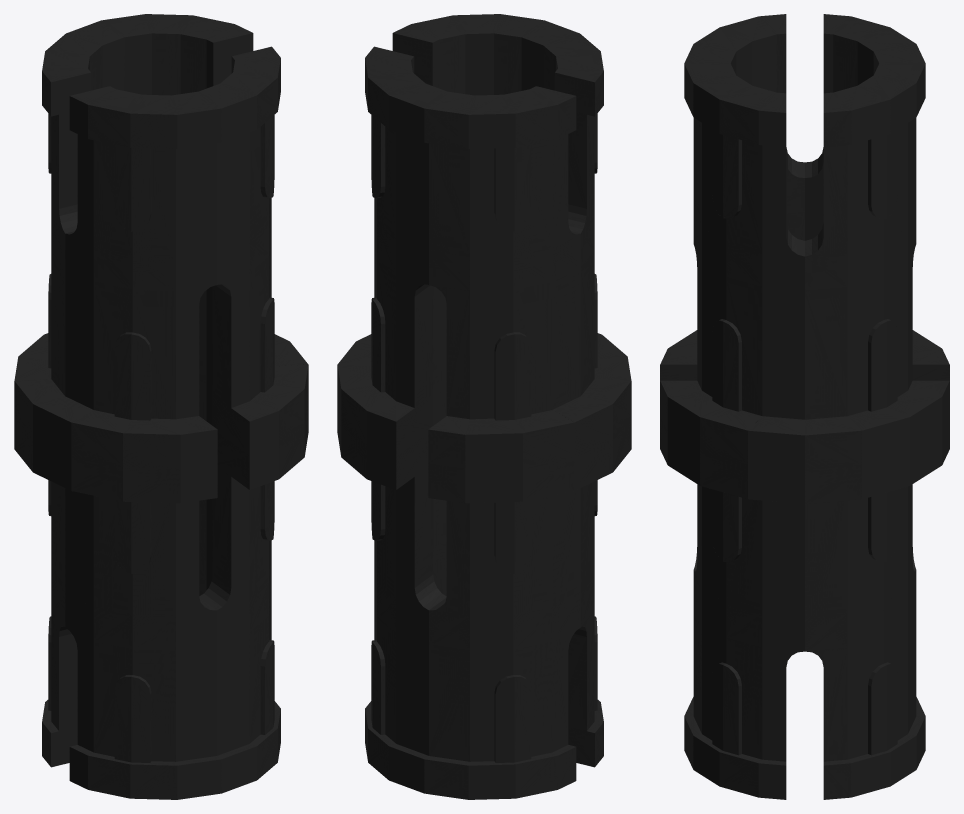
The model's file is connector_peg_with_friction.dae.
The picture shows the model from 3 angles, left to right: view 1: azimuth 30°, elevation 25°; view 2: azimuth 150°, elevation 25°; view 3: azimuth 270°, elevation 25°; orthographic projection.
Parts seen in each view (by area): view 1: node; view 2: node; view 3: node.
Boxes of the visible parts, x1=… form: node: x1=14, y1=14, x2=308, y2=799; node: x1=337, y1=14, x2=631, y2=799; node: x1=660, y1=14, x2=949, y2=799.
Bounding box in the file's own units: 15.5 × 39.5 × 15.1.
Materials: 1 (1 with a texture image).
